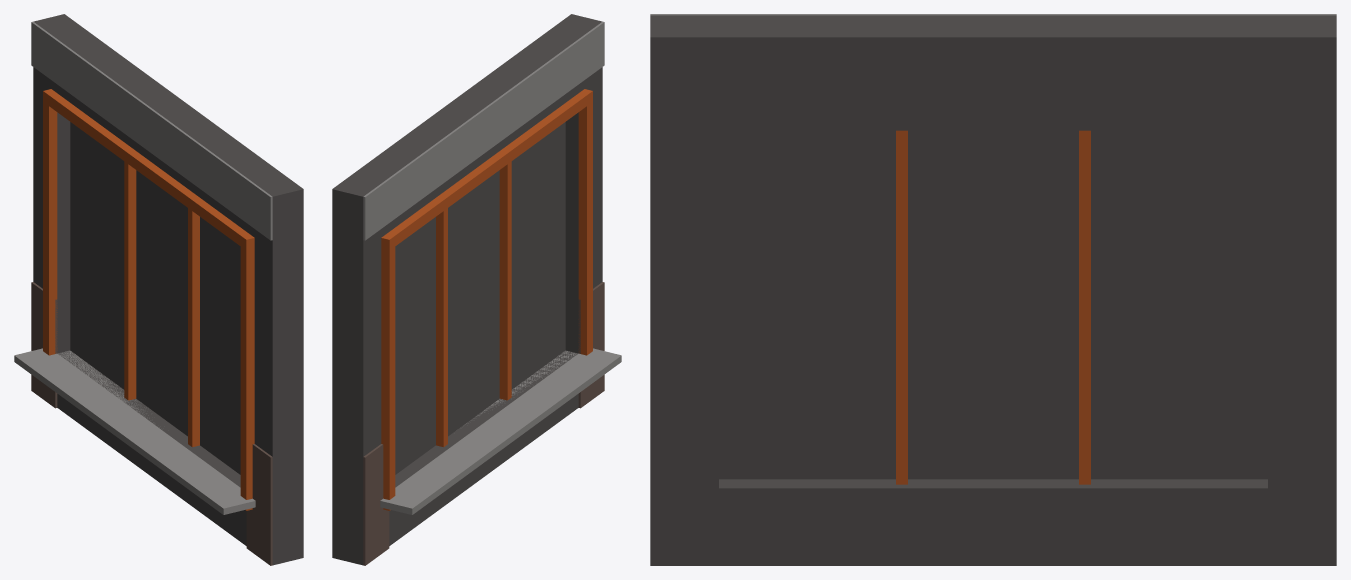
The model's file is B_k_win_shop.glb.
The picture shows the model from 3 angles, left to right: view 1: azimuth 30°, elevation 25°; view 2: azimuth 150°, elevation 25°; view 3: azimuth 270°, elevation 25°; orthographic projection. The views are drawn at different scales.
Parts seen in each view (by area): view 1: MCDCX_h.004, Cube.002, Cube.006, Cube.010, Cube.005, Cube, Cube.004, Cube.009, Cube.008, Cube.007, Cube.011, Cube.012 (+2 smaller); view 2: MCDCX_h.004, Cube, Cube.006, Cube.010, Cube.005, Cube.002, Cube.004, Cube.009, Cube.007, Cube.008, Cube.012, Cube.011 (+2 smaller); view 3: MCDCX_h.004, Cube.005, Cube.004, Cube.002, Cube, Cube.011, Cube.012, Cube.006.
Boxes of the visible parts, left/top/right/bottom form: MCDCX_h.004: left=70, top=122, right=240, bottom=474; Cube.002: left=248, top=171, right=303, bottom=565; Cube.006: left=31, top=21, right=272, bottom=240; Cube.010: left=14, top=348, right=255, bottom=514; Cube.005: left=57, top=31, right=279, bottom=232; Cube: left=33, top=14, right=87, bottom=353; Cube.004: left=57, top=350, right=246, bottom=545; Cube.009: left=43, top=92, right=254, bottom=249; Cube.008: left=240, top=233, right=254, bottom=510; Cube.007: left=43, top=89, right=57, bottom=355; Cube.011: left=124, top=161, right=136, bottom=400; Cube.012: left=188, top=208, right=199, bottom=447; MCDCX_h.004: left=395, top=122, right=565, bottom=474; Cube: left=332, top=171, right=387, bottom=565; Cube.006: left=363, top=21, right=604, bottom=240; Cube.010: left=380, top=348, right=621, bottom=514; Cube.005: left=356, top=31, right=578, bottom=232; Cube.002: left=548, top=14, right=602, bottom=353; Cube.004: left=389, top=350, right=578, bottom=545; Cube.009: left=381, top=91, right=592, bottom=249; Cube.007: left=381, top=233, right=395, bottom=510; Cube.008: left=578, top=89, right=592, bottom=355; Cube.012: left=499, top=161, right=511, bottom=400; Cube.011: left=436, top=208, right=447, bottom=447; MCDCX_h.004: left=719, top=130, right=1267, bottom=479; Cube.005: left=717, top=15, right=1269, bottom=130; Cube.004: left=717, top=479, right=1269, bottom=565; Cube.002: left=650, top=15, right=718, bottom=565; Cube: left=1268, top=15, right=1336, bottom=565; Cube.011: left=1079, top=130, right=1090, bottom=484; Cube.012: left=896, top=130, right=907, bottom=484; Cube.006: left=650, top=14, right=1336, bottom=15.
Size of the model in its own units: 0.63 by 3.4 by 4.
